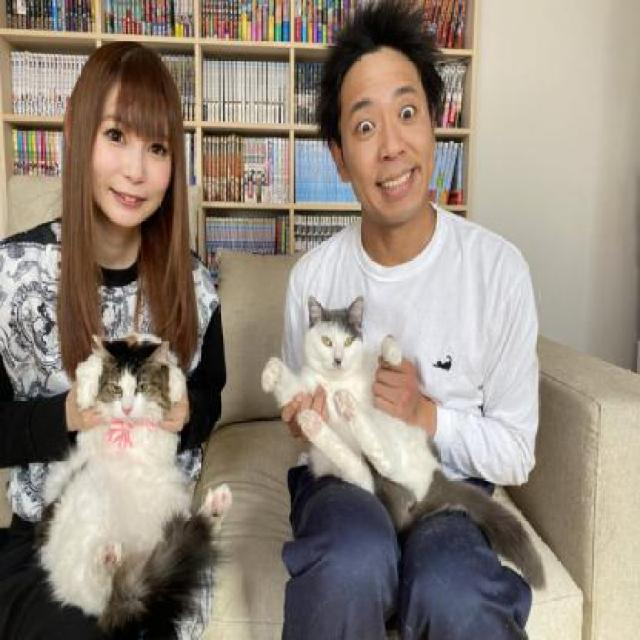cat: (256, 288, 546, 595), (42, 326, 233, 619)
